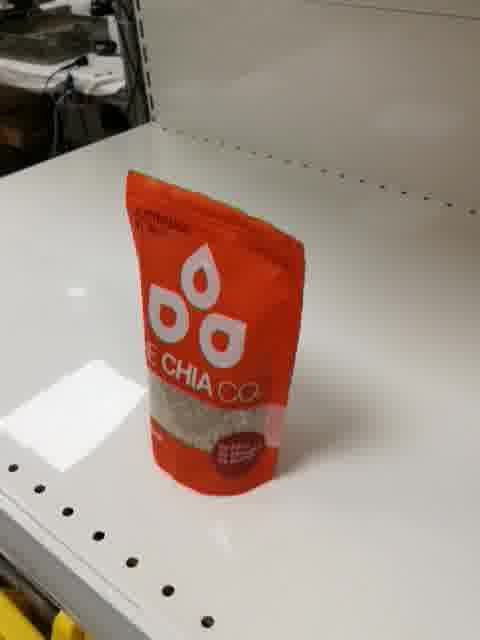whitechia: (124, 167, 306, 499)
